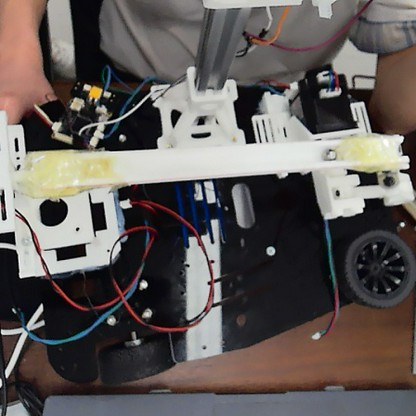ironball: (322, 146, 336, 161)
